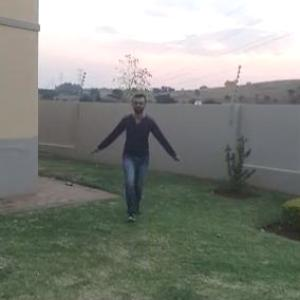land: (92, 93, 181, 219)
